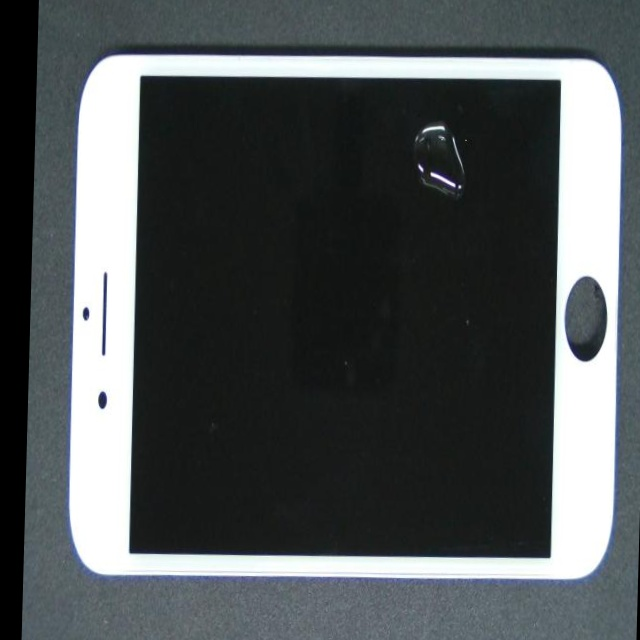oil: (249, 66, 640, 227)
